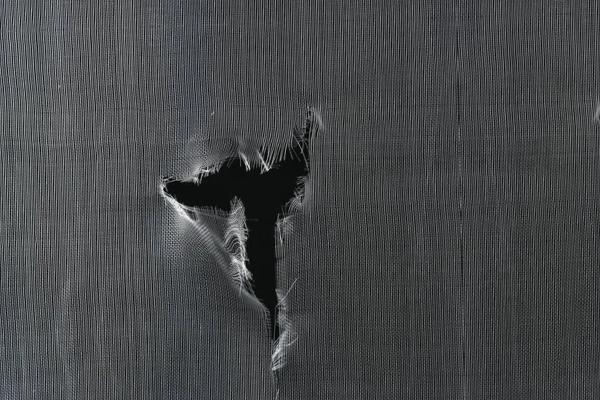hole: (155, 108, 338, 396)
